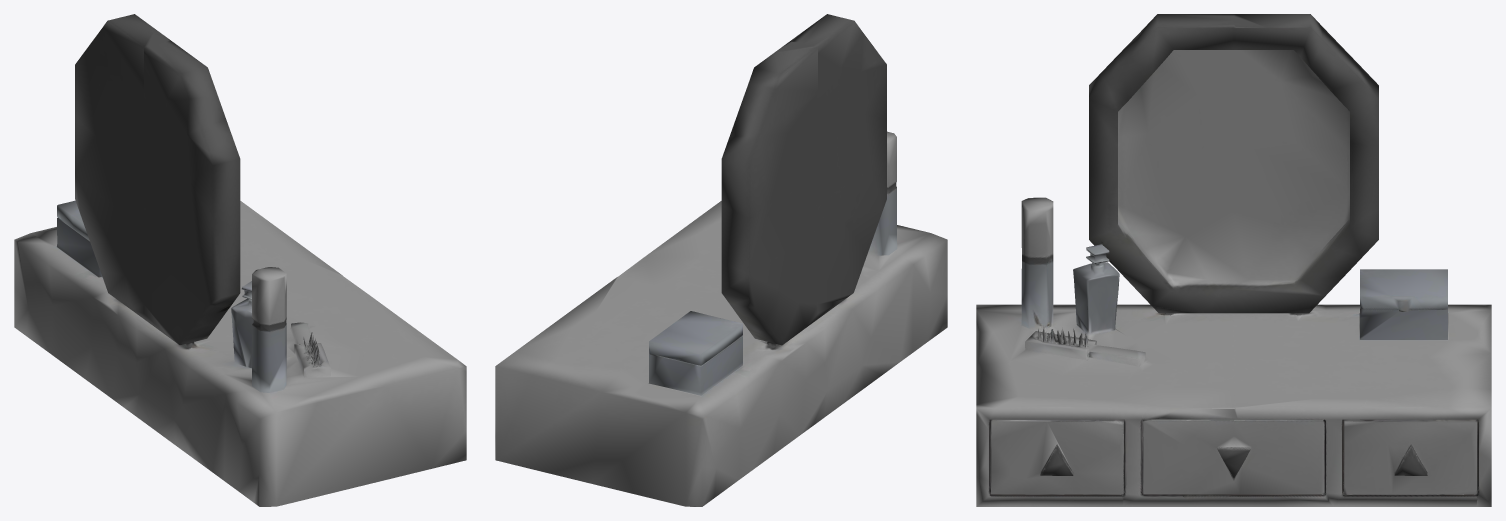
File: peinador mujer.fbx
The picture shows the model from 3 angles, left to right: view 1: azimuth 30°, elevation 25°; view 2: azimuth 150°, elevation 25°; view 3: azimuth 270°, elevation 25°; orthographic projection. The views are drawn at different scales.
Visible parts, largest first — view 1: tripo_node_1fbd0f20; view 2: tripo_node_1fbd0f20; view 3: tripo_node_1fbd0f20.
Boxes of the visible parts, x1,y1,x2,y2 form: tripo_node_1fbd0f20: (14, 14, 466, 506); tripo_node_1fbd0f20: (495, 14, 947, 506); tripo_node_1fbd0f20: (976, 14, 1491, 506).
Size of the model in its own units: 0.5038 by 0.8361 by 0.9999.
1 material, 1 textured.
